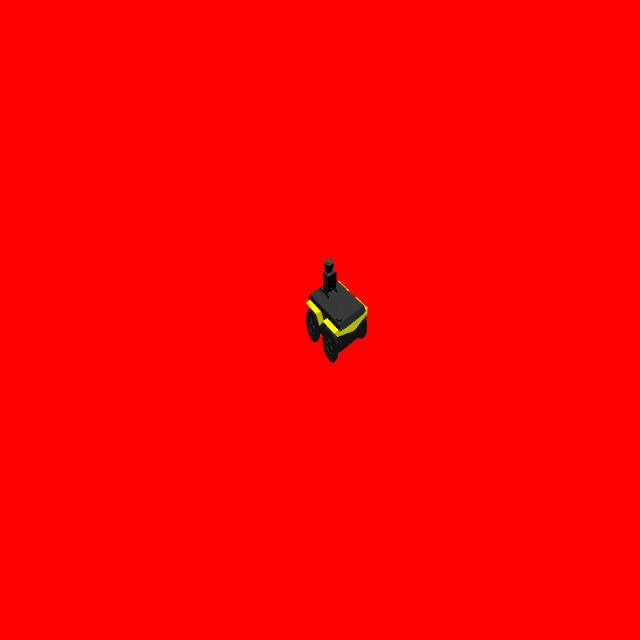jackal: (302, 256, 370, 366)
